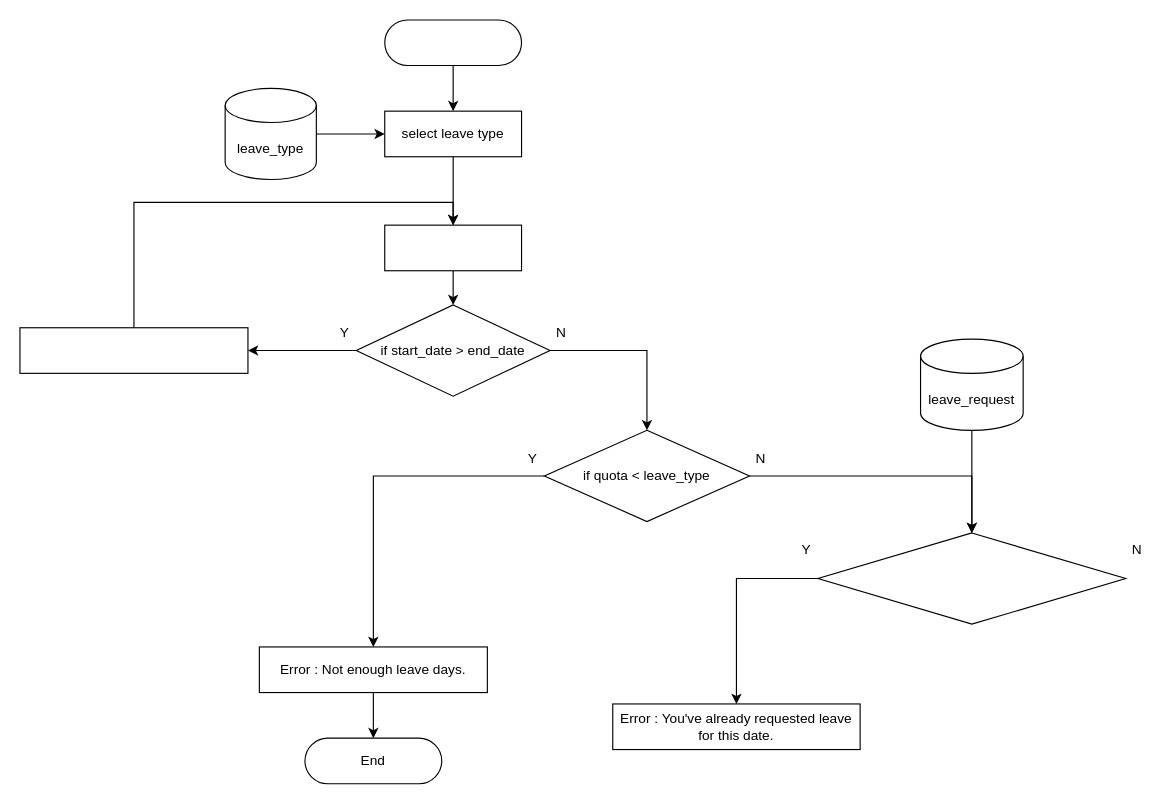
The diagram is 1169 pixels wide and 804 high, and some of its shapes have lost their labels. Here are the shapes that lost their labels. From the top down, the centre of each, then its label:
At (x=453, y=42): "Start".
At (x=453, y=247): "select start_date, end_date".
At (x=133, y=350): "Error : Start date must be before end date.".
At (x=971, y=578): "if date_leave == date_request_leave".
